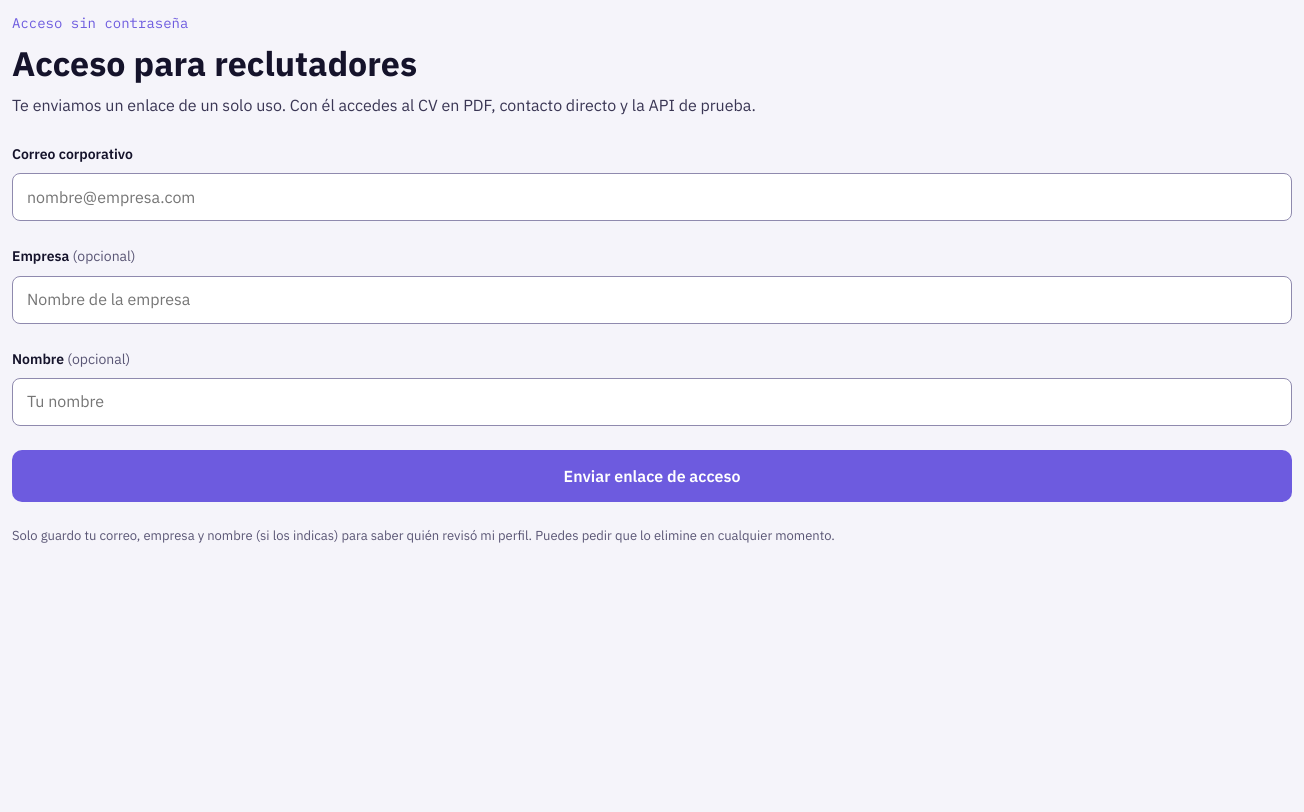
Test case: LoginForm validation on blur › shows the invalid error when leaving a non-empty invalid email
Type "no-es-correo" into the field labelled "Correo corporativo" at (652, 198), box [12,174,1292,222]
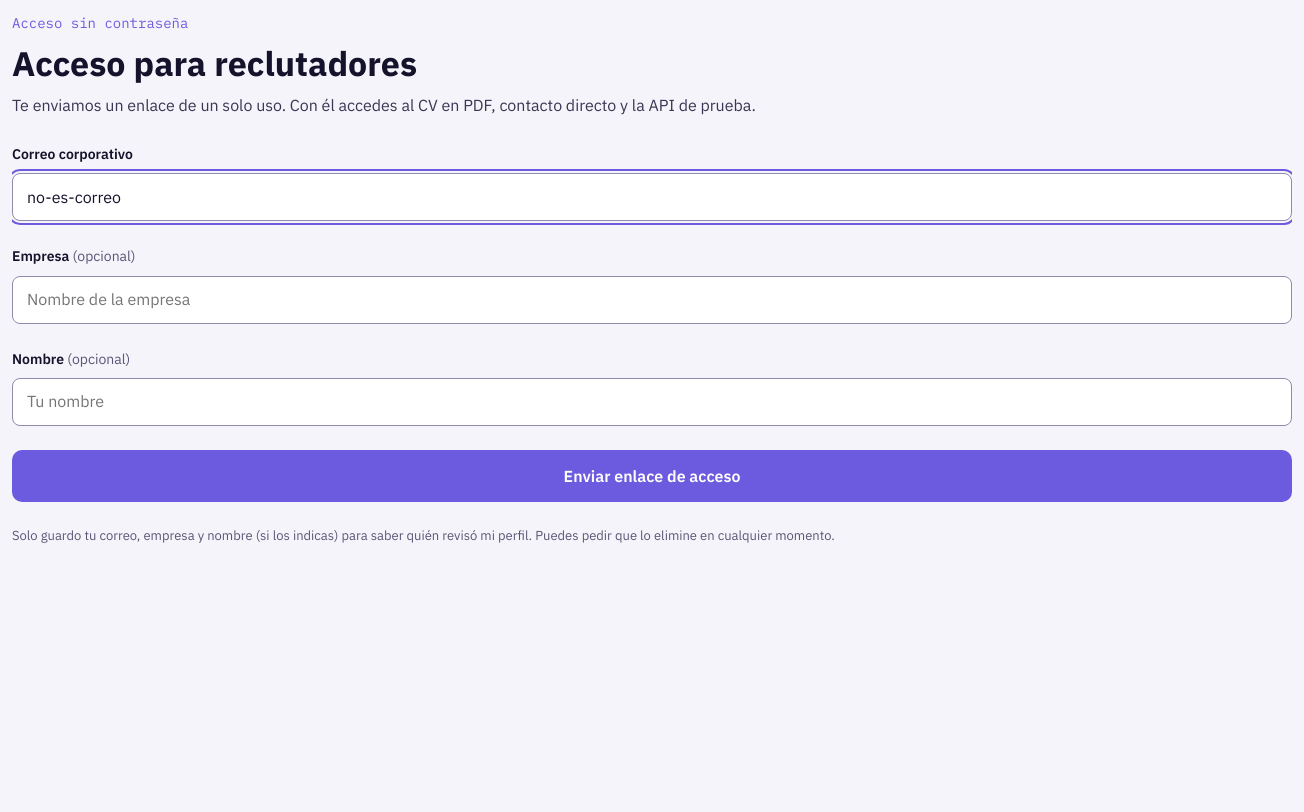
Press Tab
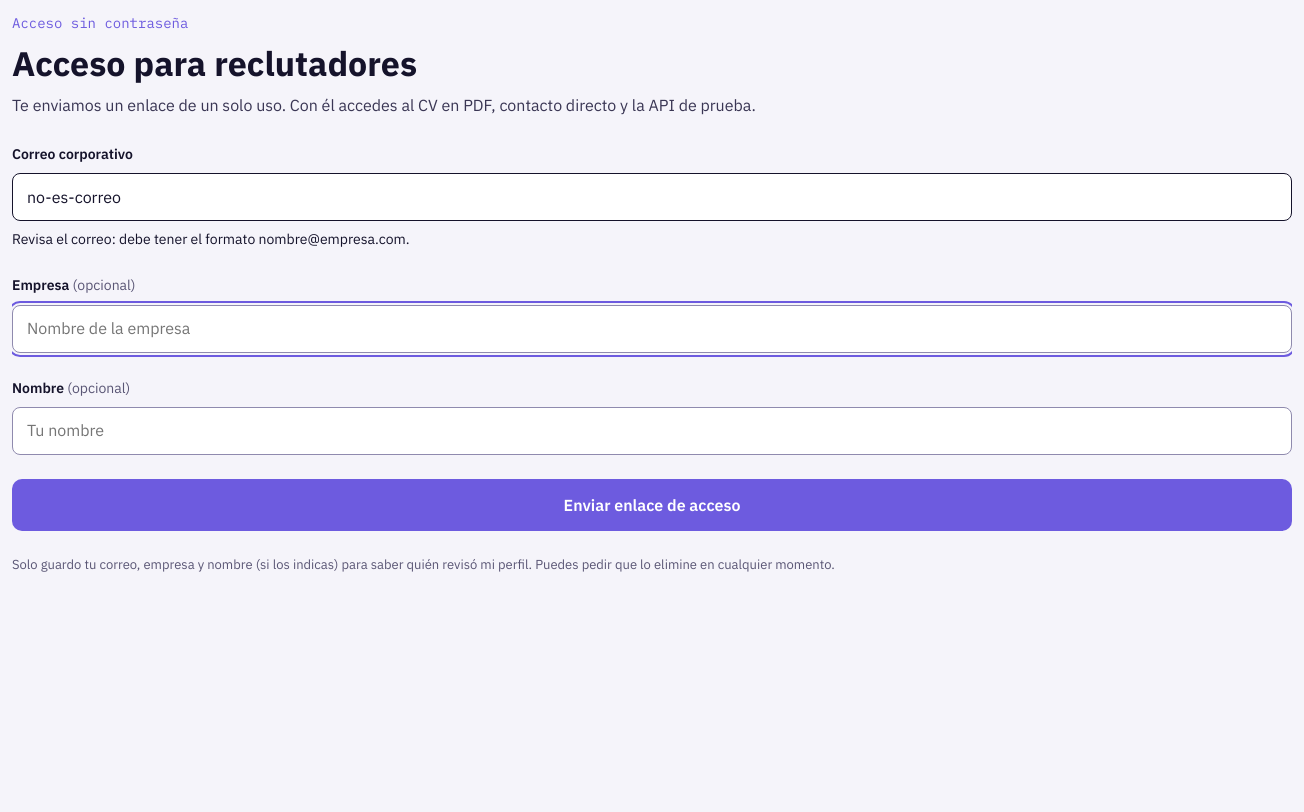
Check: the message shows "Revisa el correo", box [12,230,410,248]
